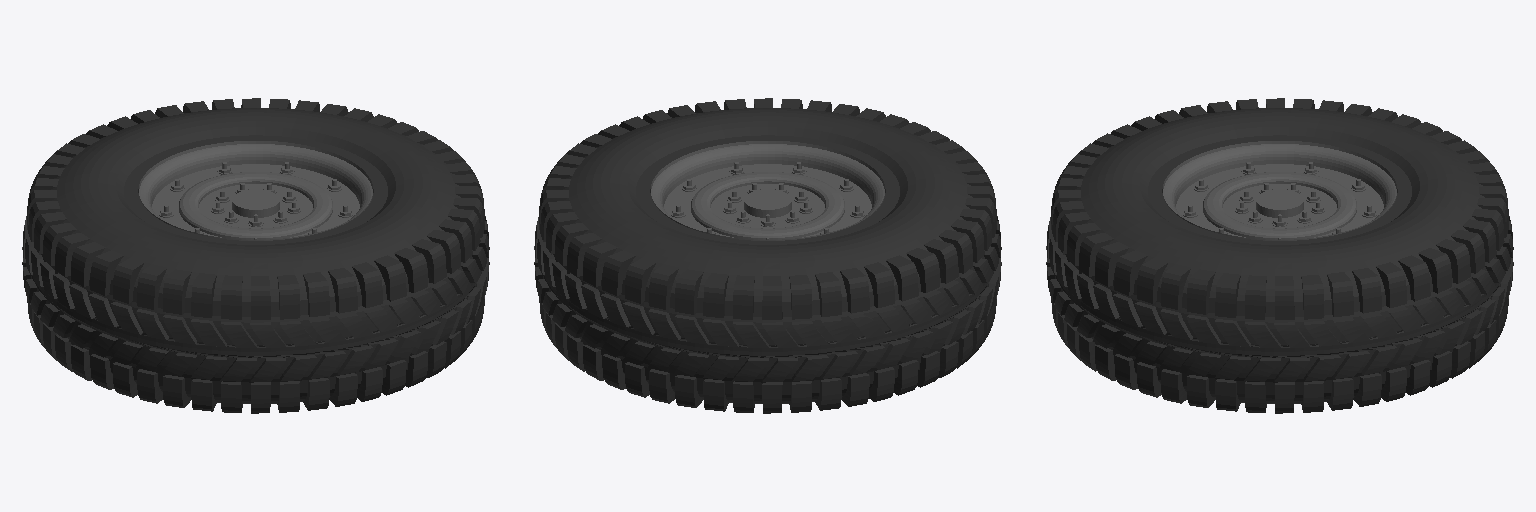
File: hmmwv_wheel_left.obj
3 views of the same model, side by side, from view 1: azimuth 30°, elevation 25°; view 2: azimuth 150°, elevation 25°; view 3: azimuth 270°, elevation 25° (orthographic).
Visible parts, largest first — view 1: Tire_wheel1.001, Hub_wheel1; view 2: Tire_wheel1.001, Hub_wheel1; view 3: Tire_wheel1.001, Hub_wheel1.
Part boxes in pixels (x1,y1,x2,y2): Tire_wheel1.001: (22,98,489,413); Hub_wheel1: (139,141,372,240); Tire_wheel1.001: (534,98,1001,413); Hub_wheel1: (651,141,884,240); Tire_wheel1.001: (1046,98,1513,413); Hub_wheel1: (1163,141,1396,240).
Size of the model in its own units: 0.9067 by 0.3128 by 0.9067.